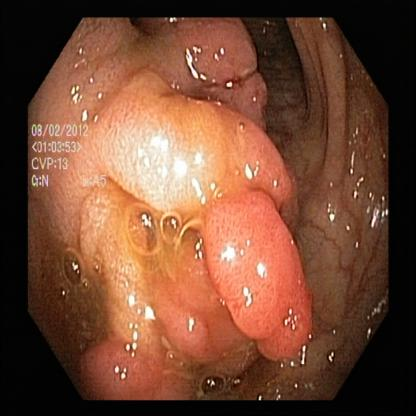Labels: (30, 124, 108, 194)
Polyps: (80, 198, 201, 388), (117, 83, 276, 202), (201, 198, 320, 351)
